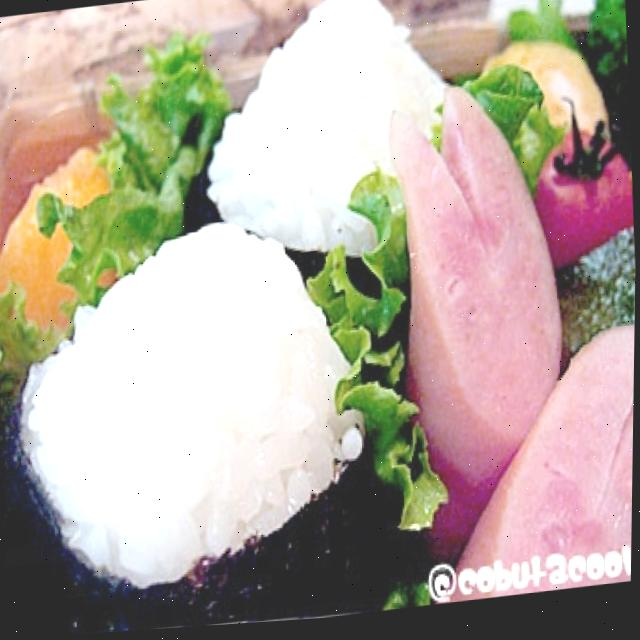米饭主食: (0, 209, 404, 640), (180, 7, 447, 324)
